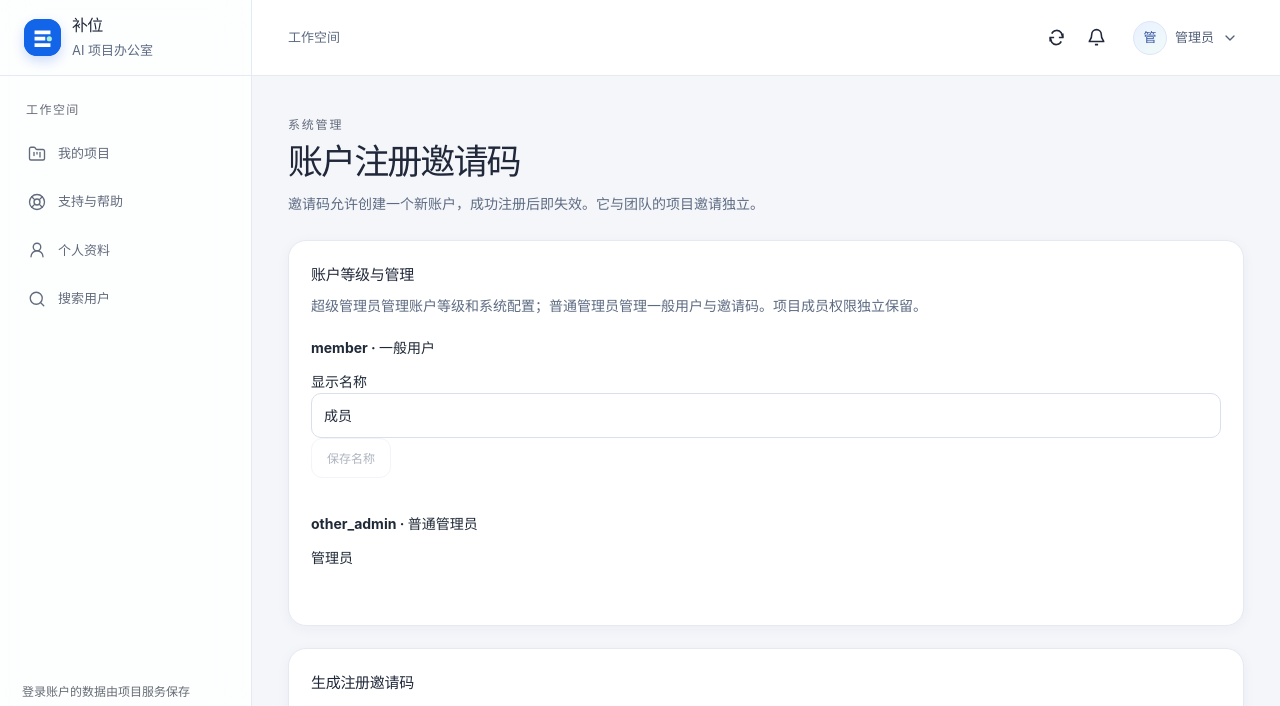
Scenario: ordinary admin can edit users but has no role controls or system settings links
Check: the field named "member 显示名称" is enabled, box x1=311 y1=393 x2=1221 y2=438
Click the button with aria-label "个人资料菜单". click: [1186, 38]
box: x1=1127 y1=16 x2=1244 y2=60
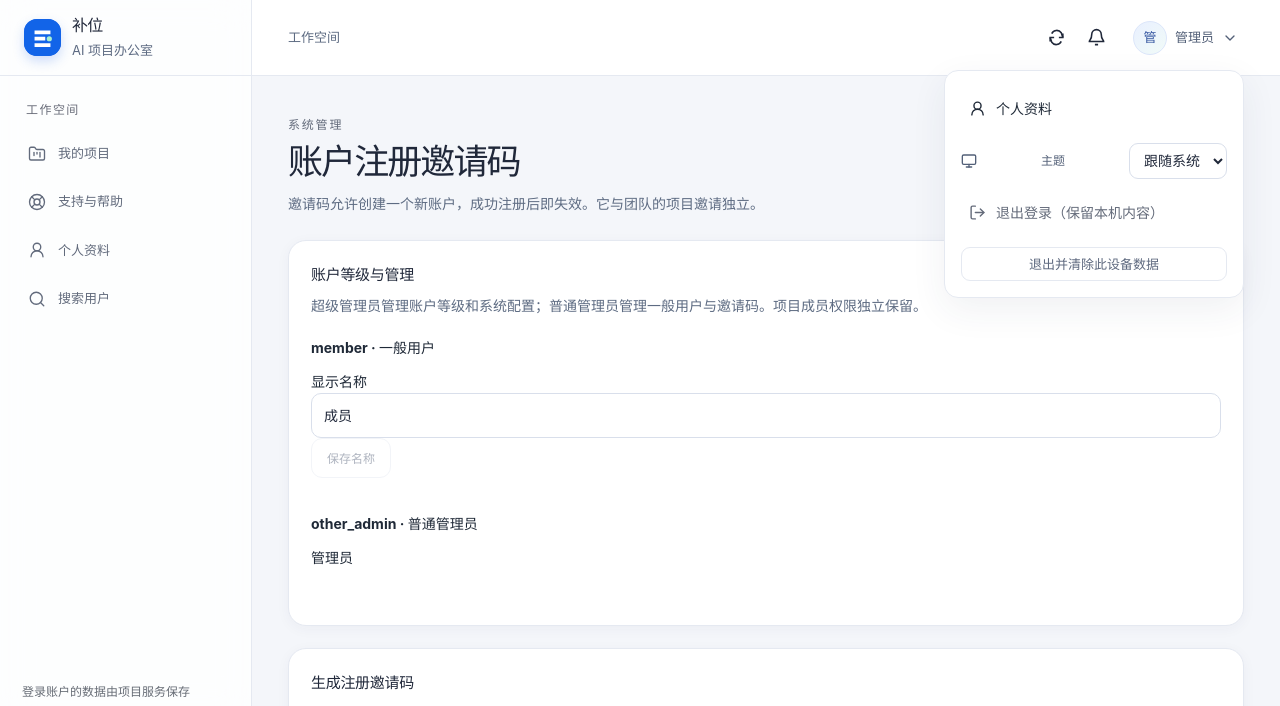
Check: the dropdown labelled "主题" is shown, box x1=1129 y1=142 x2=1227 y2=178
